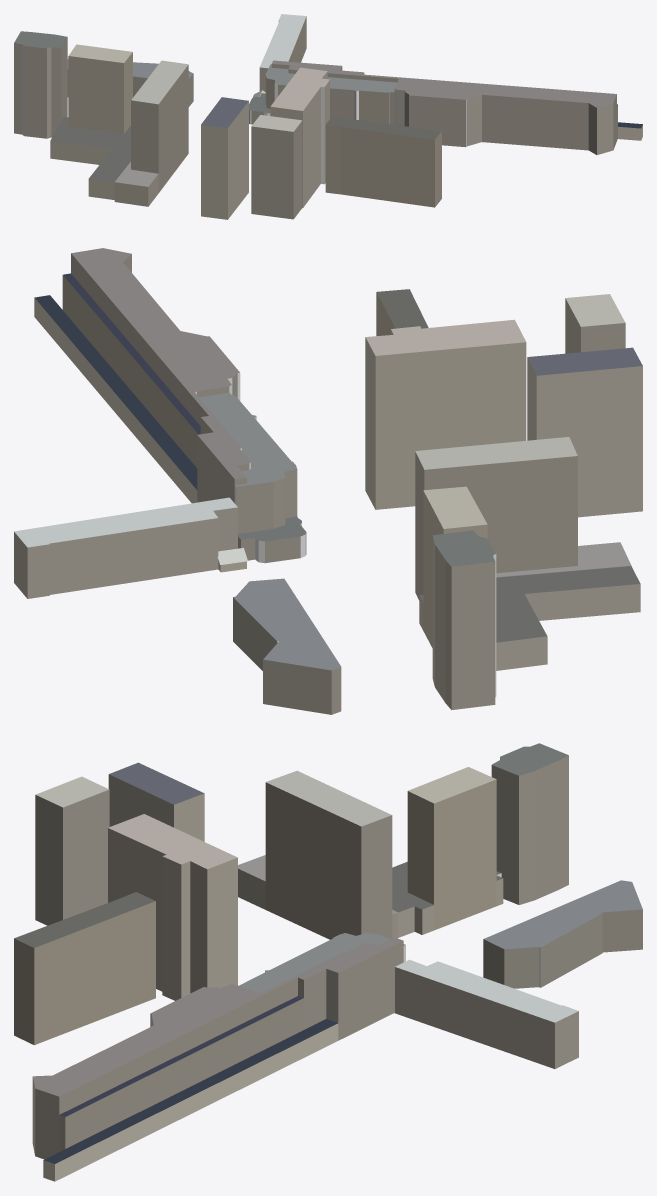
3 renders of one model, top to bottom at view 1: azimuth 30°, elevation 25°; view 2: azimuth 150°, elevation 25°; view 3: azimuth 270°, elevation 25°, orthographic. The views are drawn at different scales.
Visible parts, largest first — view 1: tuile; view 2: tuile; view 3: tuile.
Part boxes in pixels (x1,y1,x2,y2): tuile: (14, 14, 642, 219); tuile: (14, 248, 642, 714); tuile: (14, 743, 642, 1181).
Bounding box in the file's own units: 325 × 71.1 × 264.
